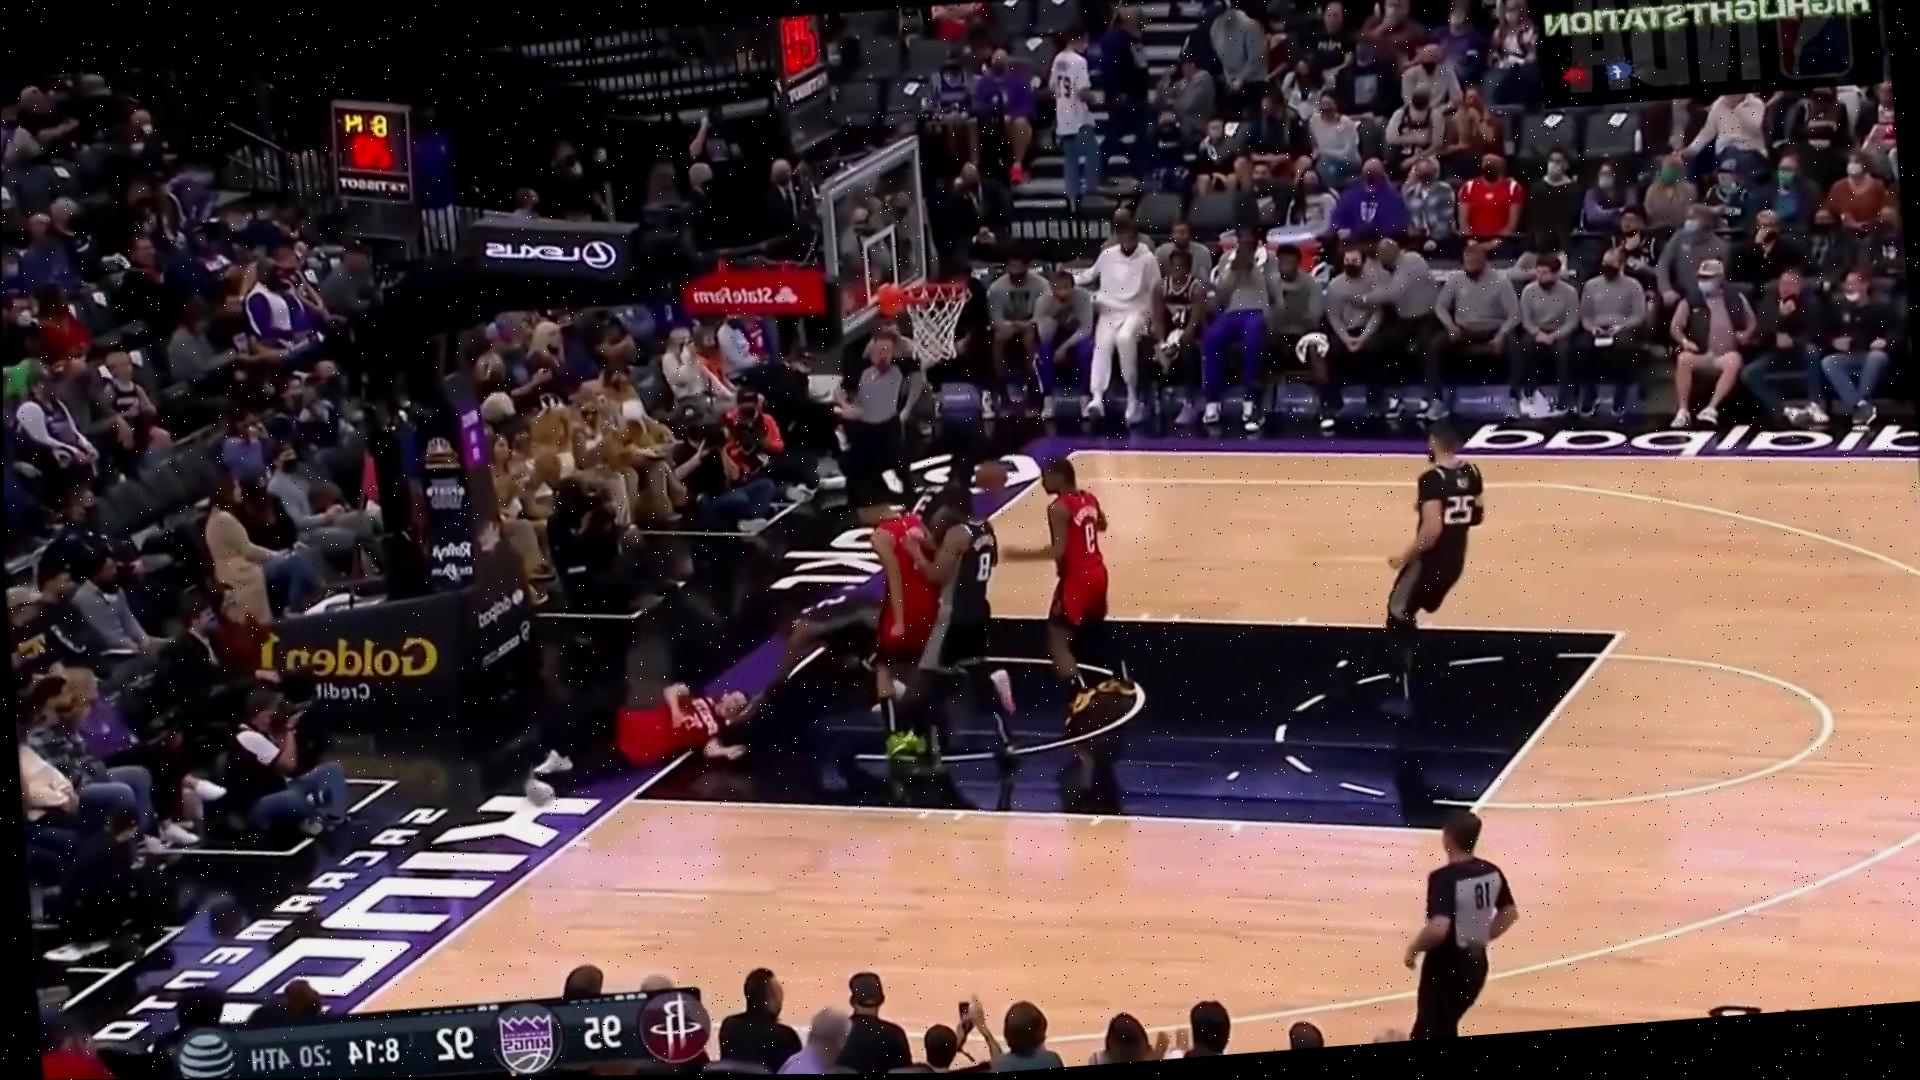no_foul: (911, 446, 1163, 764)
